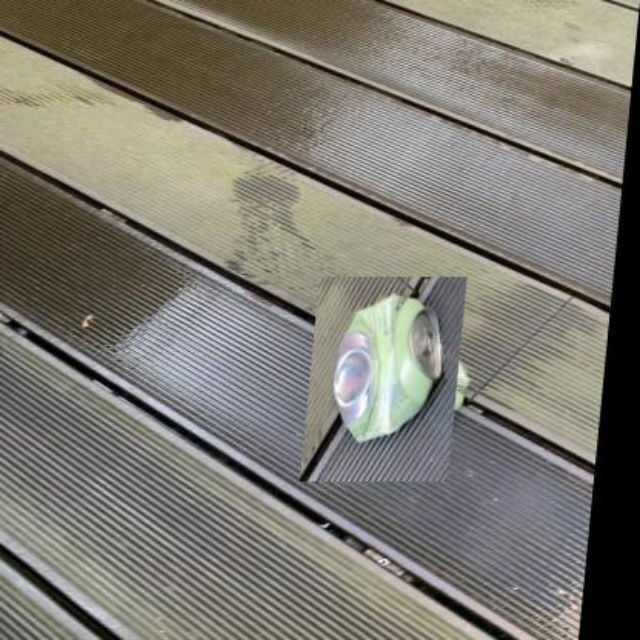trash: (334, 294, 440, 440)
